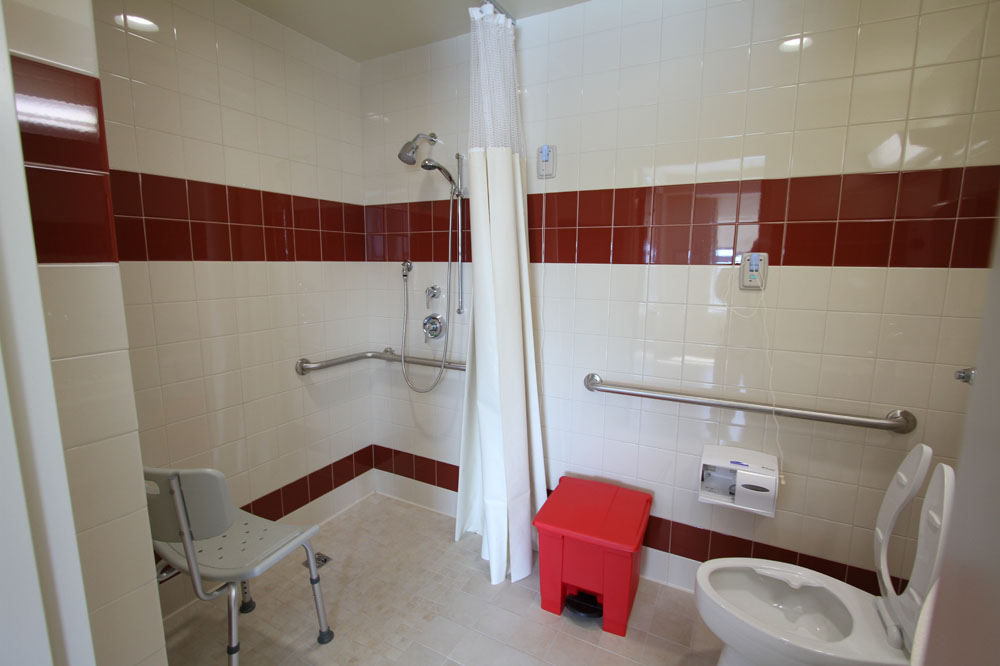chair: (142, 470, 333, 666)
curtain: (456, 2, 548, 585)
dispenser: (687, 443, 782, 531)
restroom_assist_bar: (583, 372, 917, 434), (295, 349, 470, 376)
toilet: (697, 441, 951, 666)
waste_bin: (528, 477, 654, 638)
